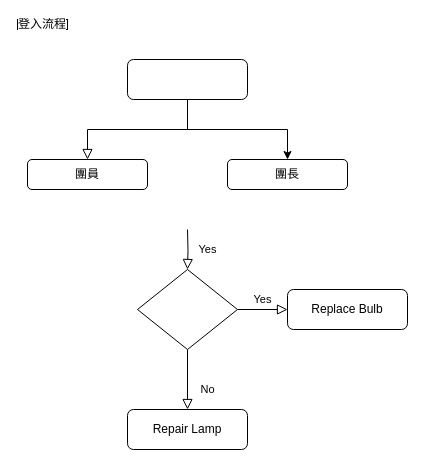
Image size: 425x467. Some labels were removed from this diagram. Here are the shapes that lost their labels. From the top down, the centre of each, then its label:
At point 187,79: "用戶登入".
At point 187,309: "Bulb burned out?".
